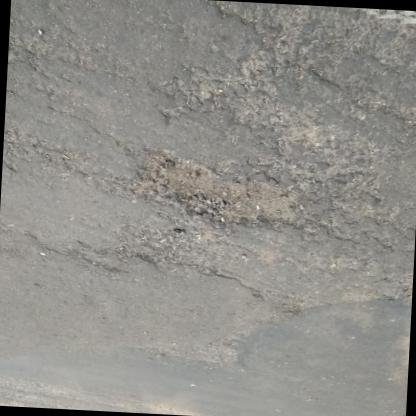pothole: (134, 144, 306, 232), (132, 225, 216, 277)
